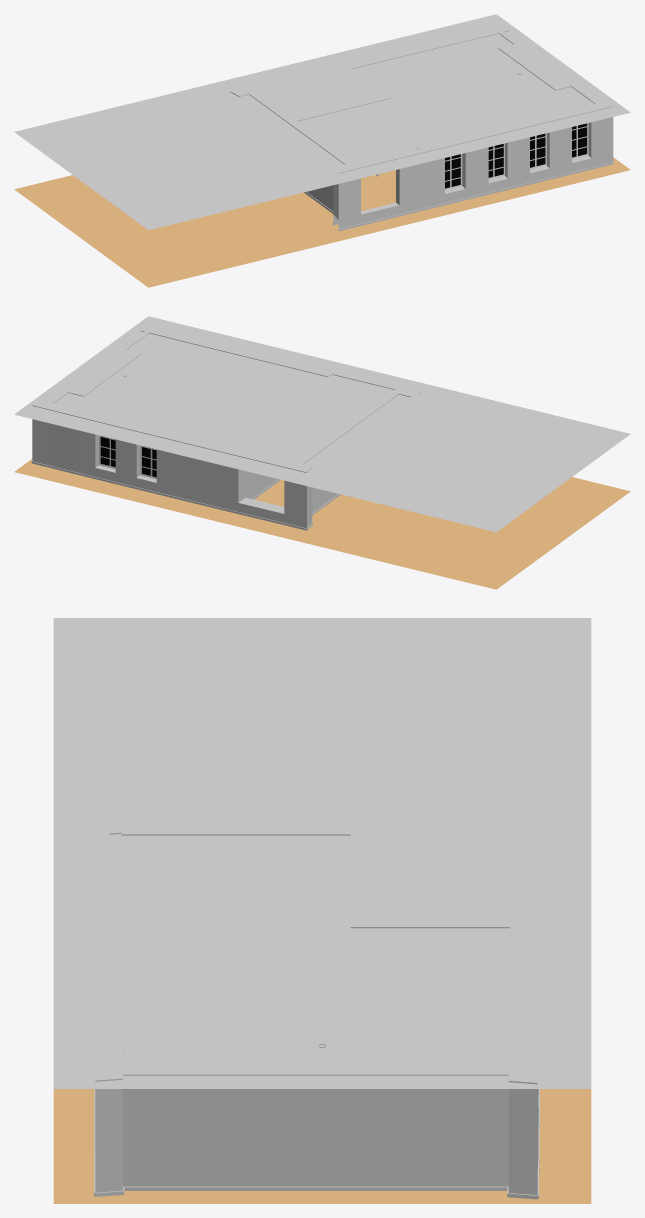
File: Bienne_Musee_hdr2_rescale_test_export.fbx
The picture shows the model from 3 angles, top to bottom: view 1: azimuth 30°, elevation 25°; view 2: azimuth 150°, elevation 25°; view 3: azimuth 270°, elevation 25°; orthographic projection. The views are drawn at different scales.
Visible parts, largest first — view 1: Plafond, Sol, Cube_1_8, Cube_2_2, Cube_22, Cube_23, Cube_25, Cube_24; view 2: Plafond, Cube_1_8, Sol, Cube_2_2, Cube_27; view 3: Plafond, Cube_1_8, Sol, Cube_2_2.
Part boxes in pixels (x1,y1,x2,y2): Plafond: [14, 14, 630, 230]; Sol: [14, 157, 630, 287]; Cube_1_8: [230, 24, 613, 228]; Cube_2_2: [304, 162, 613, 230]; Cube_22: [488, 144, 503, 177]; Cube_23: [445, 154, 460, 188]; Cube_25: [530, 133, 545, 167]; Cube_24: [572, 123, 586, 157]; Plafond: [14, 316, 630, 532]; Cube_1_8: [32, 325, 419, 528]; Sol: [14, 459, 630, 589]; Cube_2_2: [31, 461, 340, 530]; Cube_27: [100, 436, 115, 467]; Plafond: [53, 618, 591, 1088]; Cube_1_8: [95, 812, 538, 1195]; Sol: [53, 1089, 591, 1203]; Cube_2_2: [94, 1089, 539, 1199].
Bounding box in the file's own units: 2604 × 304 × 1257.
